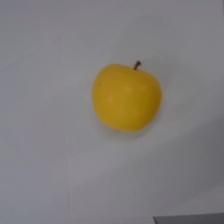yellow: (90, 60, 164, 134)
